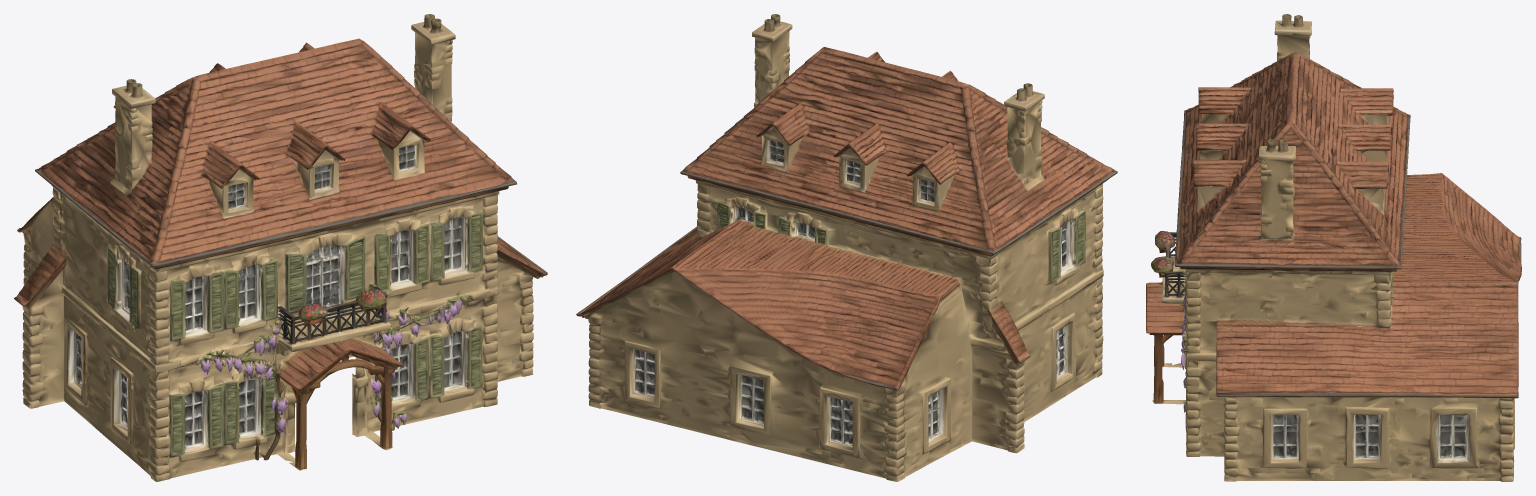
The model's file is maison-pierre.glb.
3 renders of one model, left to right at view 1: azimuth 30°, elevation 25°; view 2: azimuth 150°, elevation 25°; view 3: azimuth 270°, elevation 25°, orthographic. The views are drawn at different scales.
Parts seen in each view (by area): view 1: toit, etage, rez-sud, rez-ouest, aile, rez-nord; view 2: aile, toit, etage, rez-ouest, rez-nord; view 3: aile, toit, etage, rez-est, rez-sud.
Boxes of the visible parts, x1=… form: toit: x1=35, y1=14, x2=516, y2=269; etage: x1=14, y1=185, x2=499, y2=403; rez-sud: x1=154, y1=313, x2=496, y2=481; rez-ouest: x1=39, y1=310, x2=168, y2=481; aile: x1=14, y1=197, x2=547, y2=402; rez-nord: x1=22, y1=312, x2=49, y2=408; aile: x1=576, y1=204, x2=1026, y2=481; toit: x1=680, y1=14, x2=1117, y2=256; etage: x1=693, y1=180, x2=1103, y2=370; rez-ouest: x1=978, y1=293, x2=1102, y2=448; rez-nord: x1=971, y1=359, x2=1024, y2=452; aile: x1=1216, y1=173, x2=1521, y2=481; toit: x1=1175, y1=14, x2=1410, y2=271; etage: x1=1146, y1=231, x2=1409, y2=376; rez-est: x1=1186, y1=375, x2=1224, y2=456; rez-sud: x1=1152, y1=329, x2=1198, y2=456.
Size of the model in its own units: 12.33 by 9.62 by 10.55.
1 material, 1 textured.
